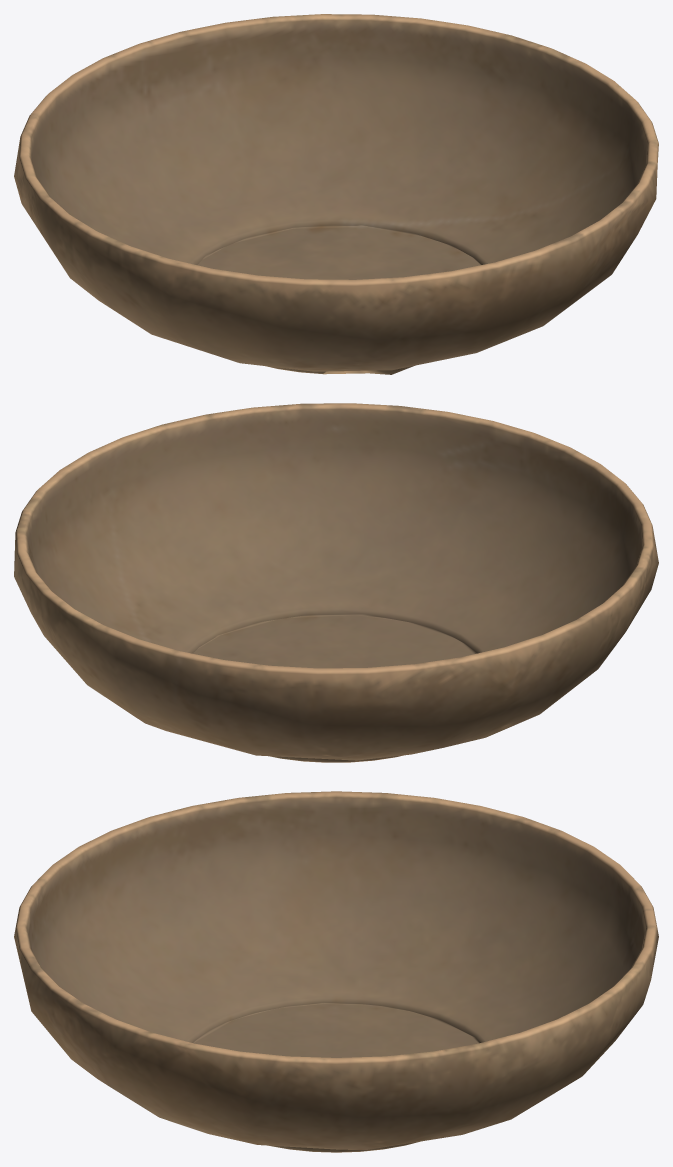
File: SM_Prop_Plate_A.fbx
3 renders of one model, top to bottom at view 1: azimuth 30°, elevation 25°; view 2: azimuth 150°, elevation 25°; view 3: azimuth 270°, elevation 25°, orthographic.
Visible parts, largest first — view 1: SM_Prop_Plate_A_LOD0; view 2: SM_Prop_Plate_A_LOD0; view 3: SM_Prop_Plate_A_LOD0.
Part boxes in pixels (x1,y1,x2,y2): SM_Prop_Plate_A_LOD0: [14, 14, 658, 374]; SM_Prop_Plate_A_LOD0: [14, 403, 658, 762]; SM_Prop_Plate_A_LOD0: [14, 791, 658, 1152].
Bounding box in the file's own units: 11.99 × 11.99 × 3.38.
1 material, 1 textured.
